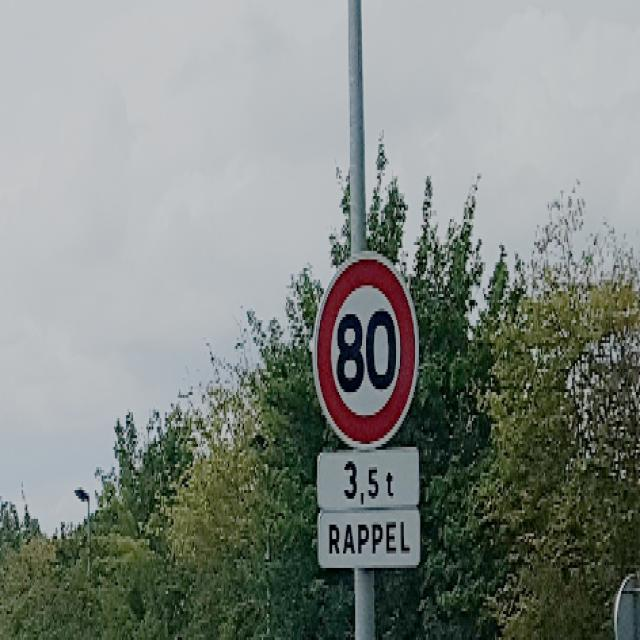speed_80: (314, 253, 418, 454)
